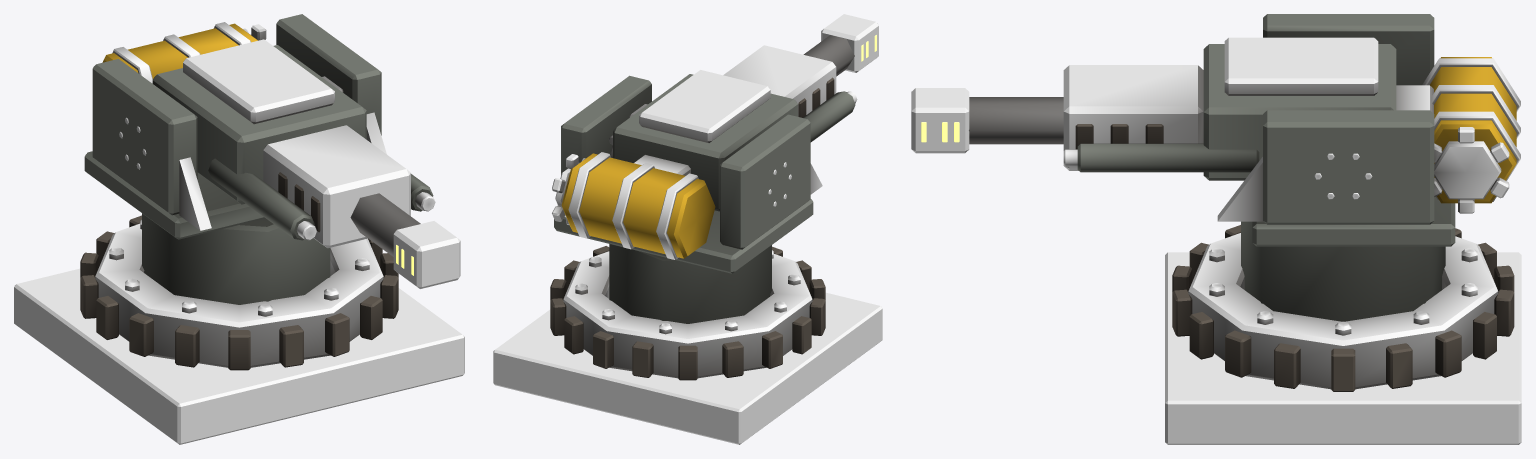
File: R4W_Basic_LOD1.fbx
3 renders of one model, left to right at view 1: azimuth 30°, elevation 25°; view 2: azimuth 150°, elevation 25°; view 3: azimuth 270°, elevation 25°, orthographic. The views are drawn at different scales.
Parts seen in each view (by area): view 1: R4W_Basic_LOD1; view 2: R4W_Basic_LOD1; view 3: R4W_Basic_LOD1.
Part boxes in pixels (left/top/right/bottom): R4W_Basic_LOD1: left=14, top=14, right=464, bottom=444; R4W_Basic_LOD1: left=493, top=14, right=882, bottom=444; R4W_Basic_LOD1: left=911, top=14, right=1521, bottom=444.
Size of the model in its own units: 0.51 by 0.494 by 0.873.
